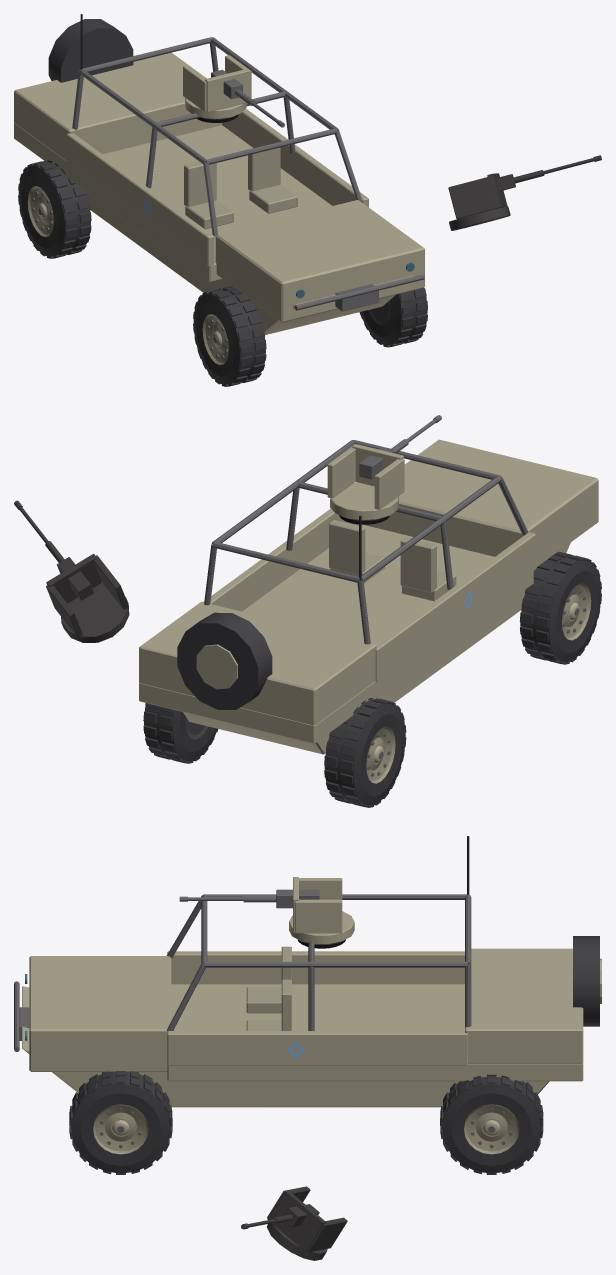
File: reconVehicle__jackal.glb
3 renders of one model, top to bottom at view 1: azimuth 30°, elevation 25°; view 2: azimuth 150°, elevation 25°; view 3: azimuth 270°, elevation 25°, orthographic. The views are drawn at different scales.
Visible parts, largest first — view 1: Hull_Mesh, Wheel_L1_Mesh, Wheel_L0_Mesh, Wreck, Turret_Mesh, Wheel_R1_Mesh, Gun_Mesh; view 2: Hull_Mesh, Wheel_L1_Mesh, Wheel_L0_Mesh, Wreck, Turret_Mesh, Wheel_R0_Mesh, Gun_Mesh; view 3: Hull_Mesh, Wheel_R1_Mesh, Wheel_R0_Mesh, Wreck, Turret_Mesh, Gun_Mesh.
Part boxes in pixels (x1,y1,x2,y2): Hull_Mesh: (14, 14, 424, 334); Wheel_L1_Mesh: (193, 286, 266, 386); Wheel_L0_Mesh: (18, 160, 91, 258); Wreck: (25, 114, 601, 386); Turret_Mesh: (183, 55, 251, 118); Wheel_R1_Mesh: (359, 287, 427, 347); Gun_Mesh: (211, 69, 284, 127); Hull_Mesh: (139, 439, 598, 754); Wheel_L1_Mesh: (519, 551, 601, 664); Wheel_L0_Mesh: (324, 698, 406, 807); Wreck: (14, 500, 593, 802); Turret_Mesh: (327, 444, 404, 520); Wheel_R0_Mesh: (143, 703, 218, 763); Gun_Mesh: (359, 415, 441, 479); Hull_Mesh: (14, 836, 601, 1107); Wheel_R1_Mesh: (69, 1071, 172, 1174); Wheel_R0_Mesh: (440, 1074, 543, 1174); Wreck: (89, 939, 515, 1260); Turret_Mesh: (289, 877, 354, 944); Gun_Mesh: (179, 889, 319, 908).
Size of what is drawn, in the model's own units: 5.29 by 2.75 by 5.71.
